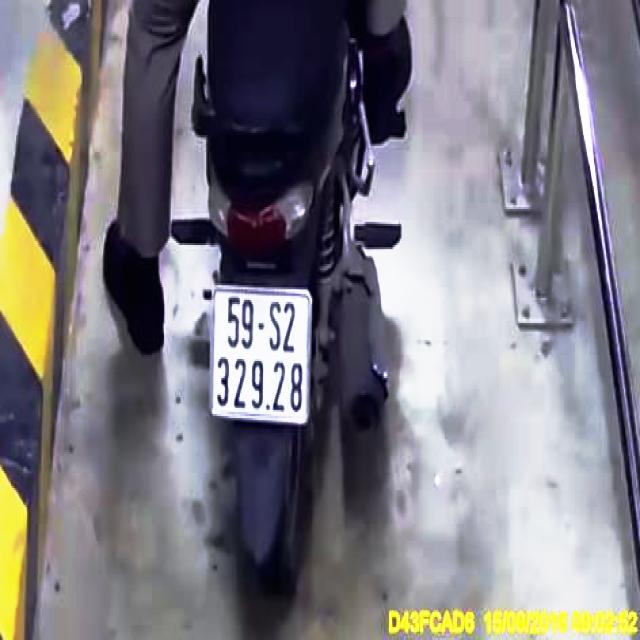license_plate: (212, 291, 313, 423)
